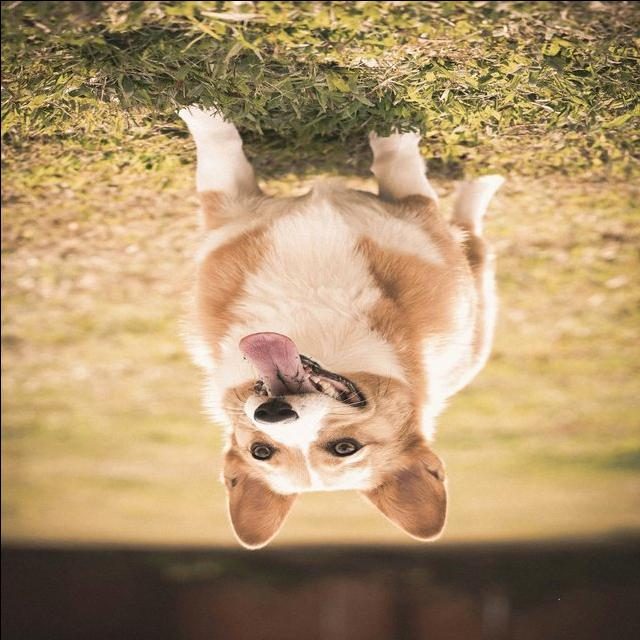corgi: (172, 102, 504, 551)
